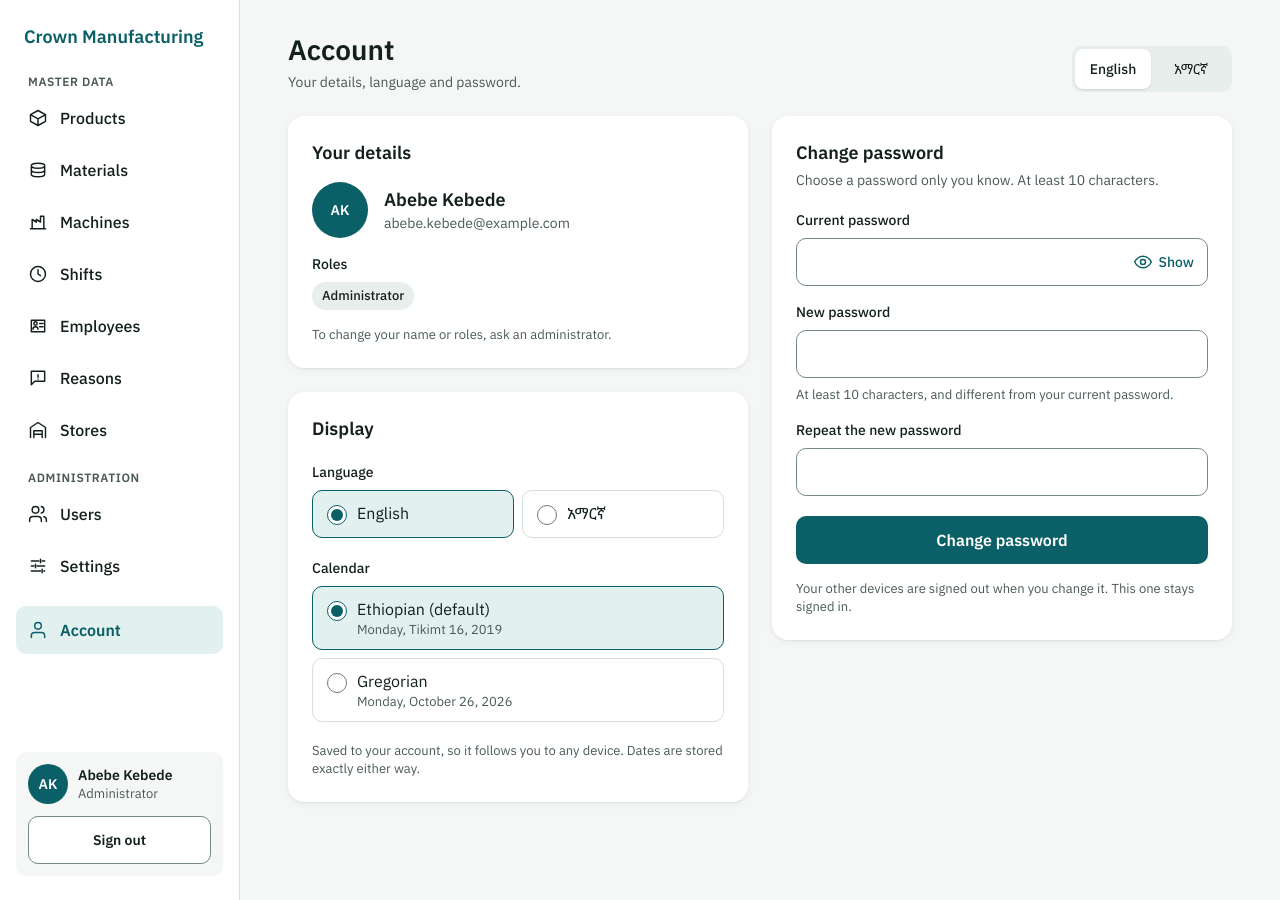
Change password › a wrong current password is reported on that field, and nothing typed is lost
The width and height of the screenshot is (1280, 900).
Expected: the heading "Account" is shown, [288, 31, 394, 68]
Type "not my password" into the password field labelled "Current password".
click(1002, 262); type("not my password")  # box [796, 238, 1208, 286]
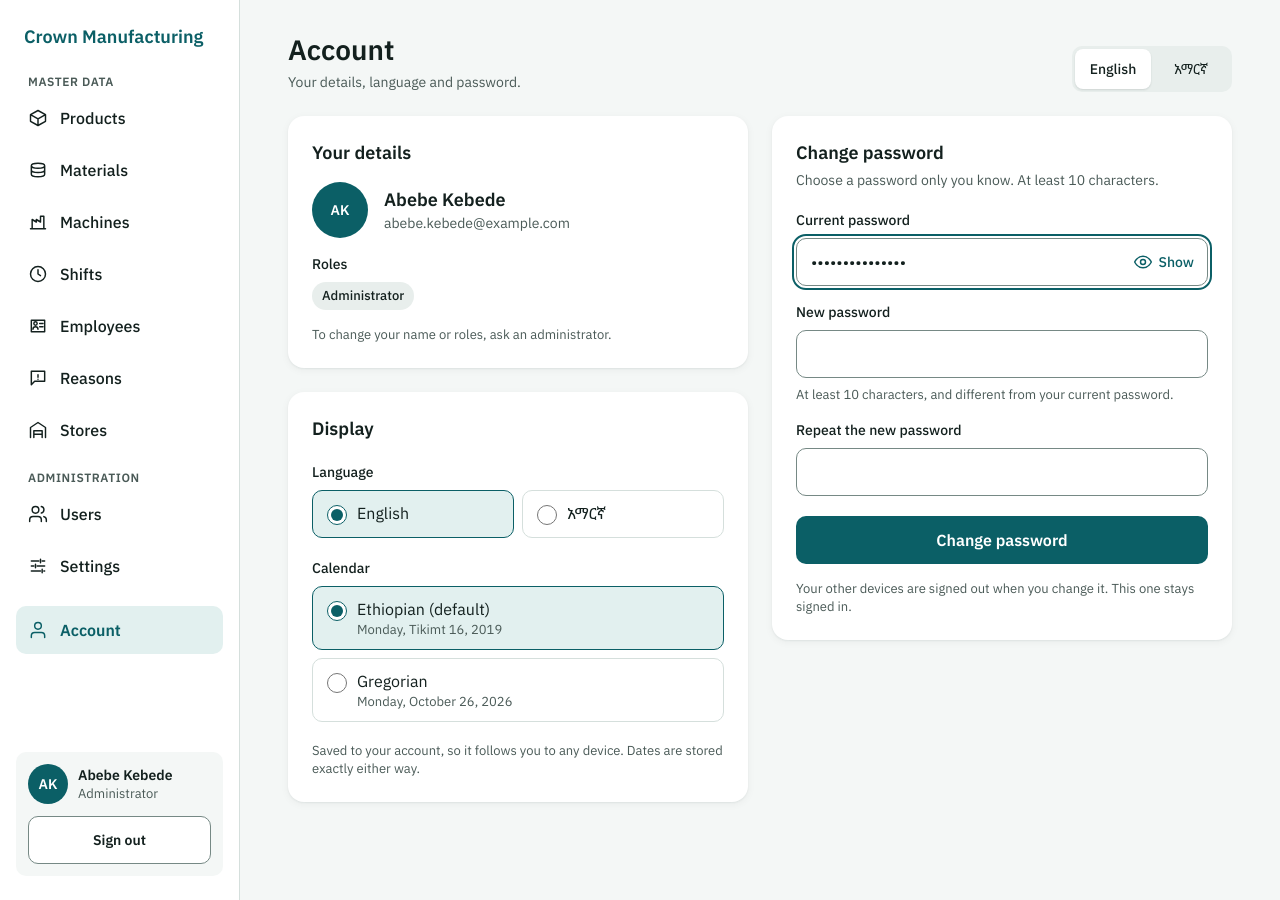
Type "a brand new password" into the password field labelled "New password".
click(1002, 354); type("a brand new password")  # box [796, 330, 1208, 378]
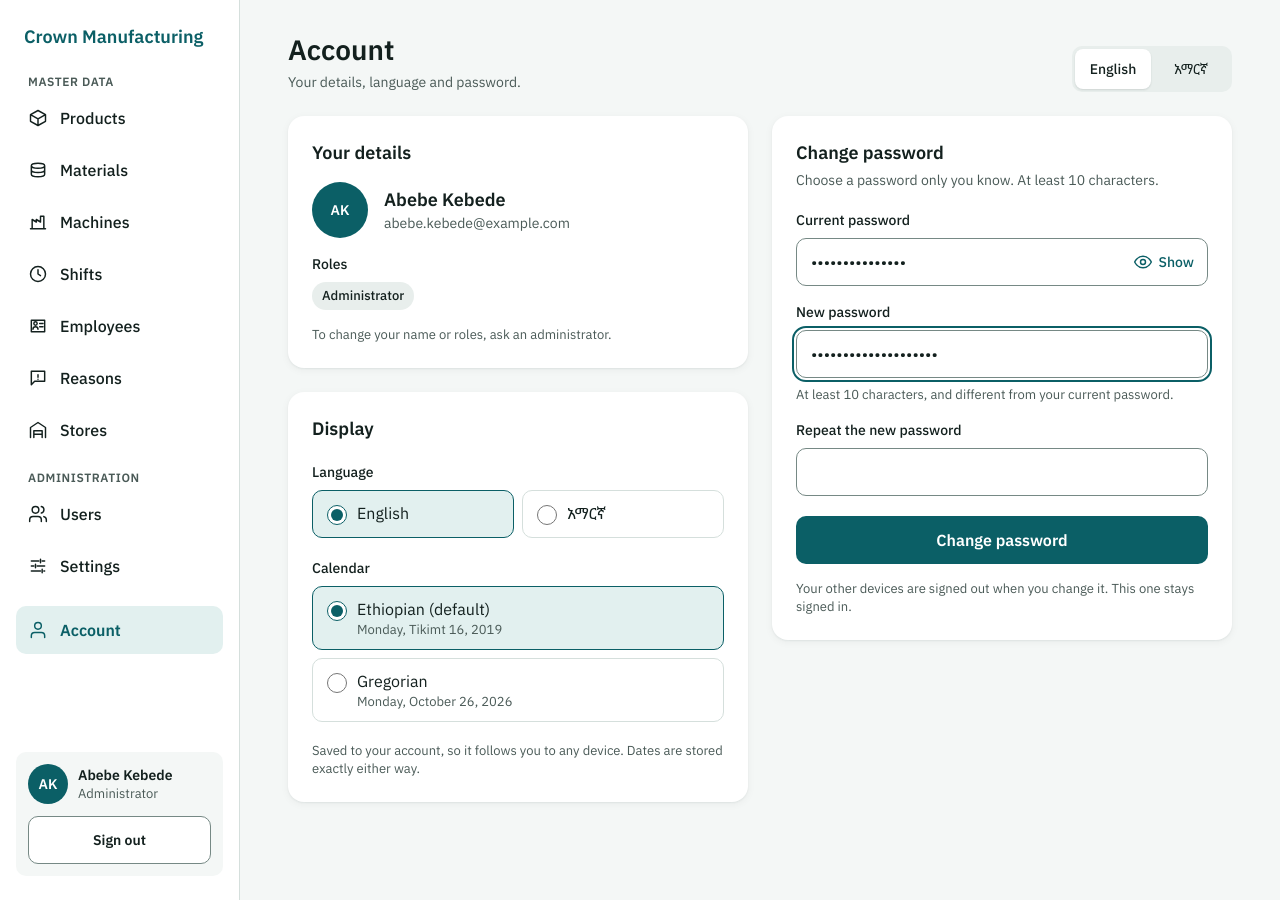
Type "a brand new password" into the password field labelled "Repeat the new password".
click(1002, 472); type("a brand new password")  # box [796, 448, 1208, 496]
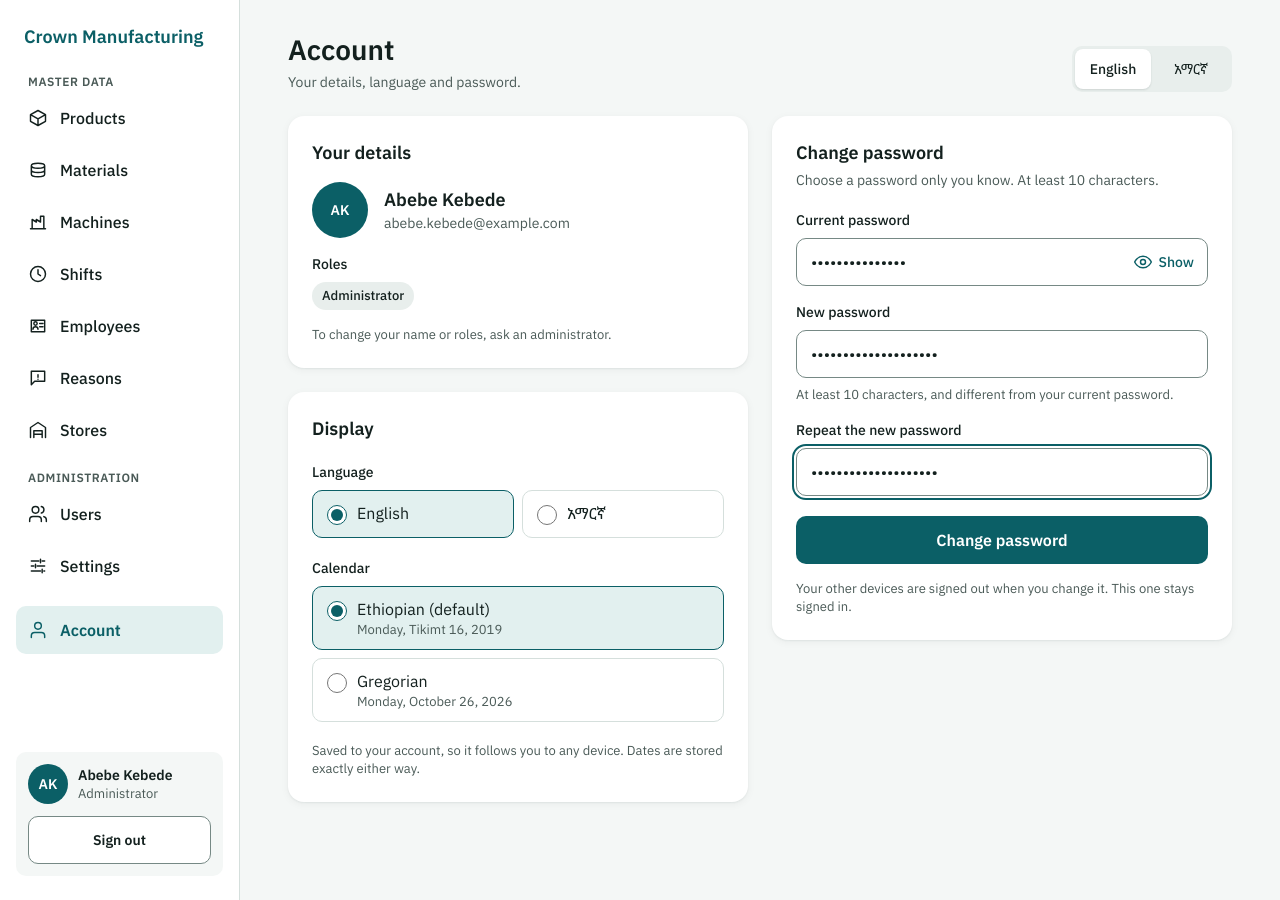
Click the button "Change password".
click(1002, 540)  # box [796, 516, 1208, 564]
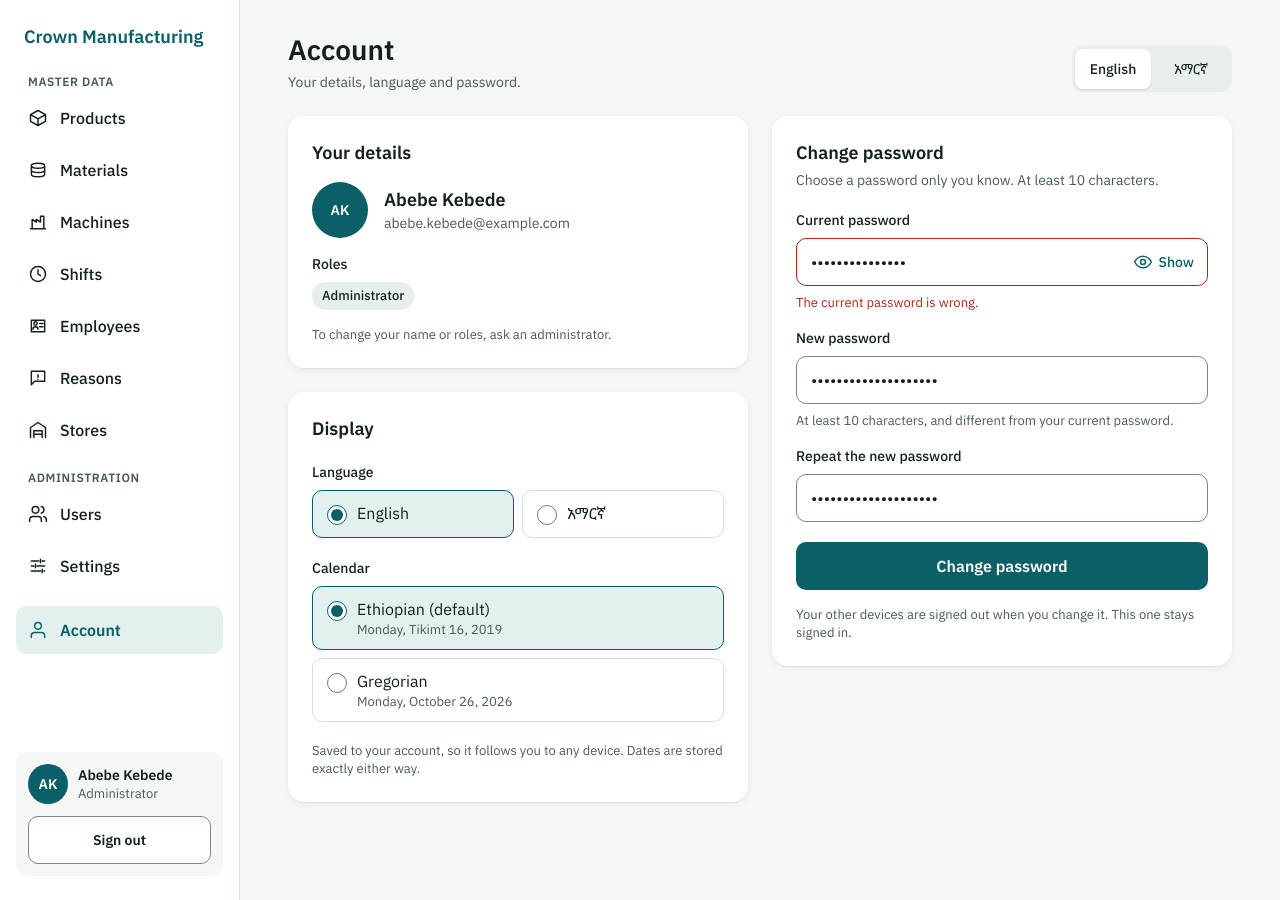
Result: the text "The current password is wrong." is shown at [796, 294, 979, 311]
